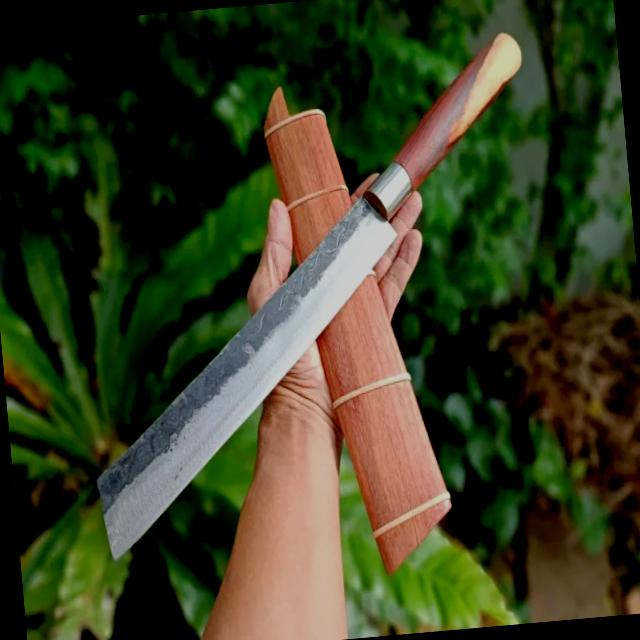eto: (83, 23, 531, 575)
